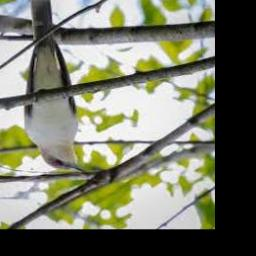Cuckoo: (25, 0, 87, 172)
